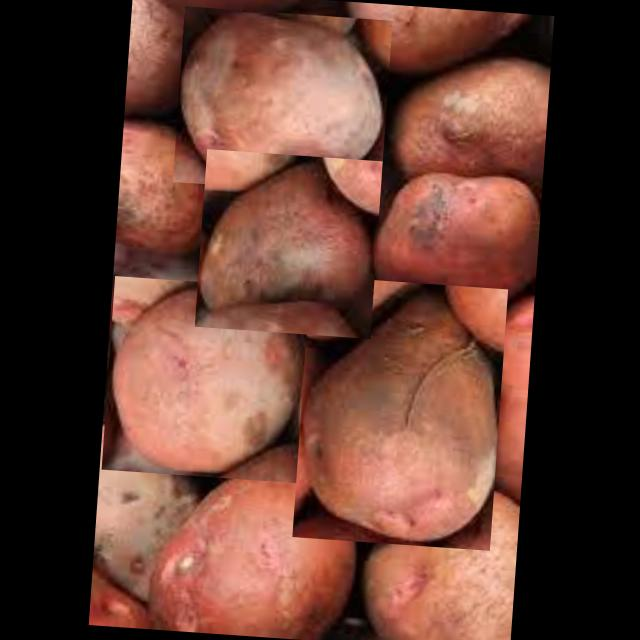Defected potato: (100, 276, 311, 482)
Diseased-fungal potato: (290, 275, 507, 550), (171, 6, 391, 196), (194, 148, 382, 338), (364, 165, 540, 318)
